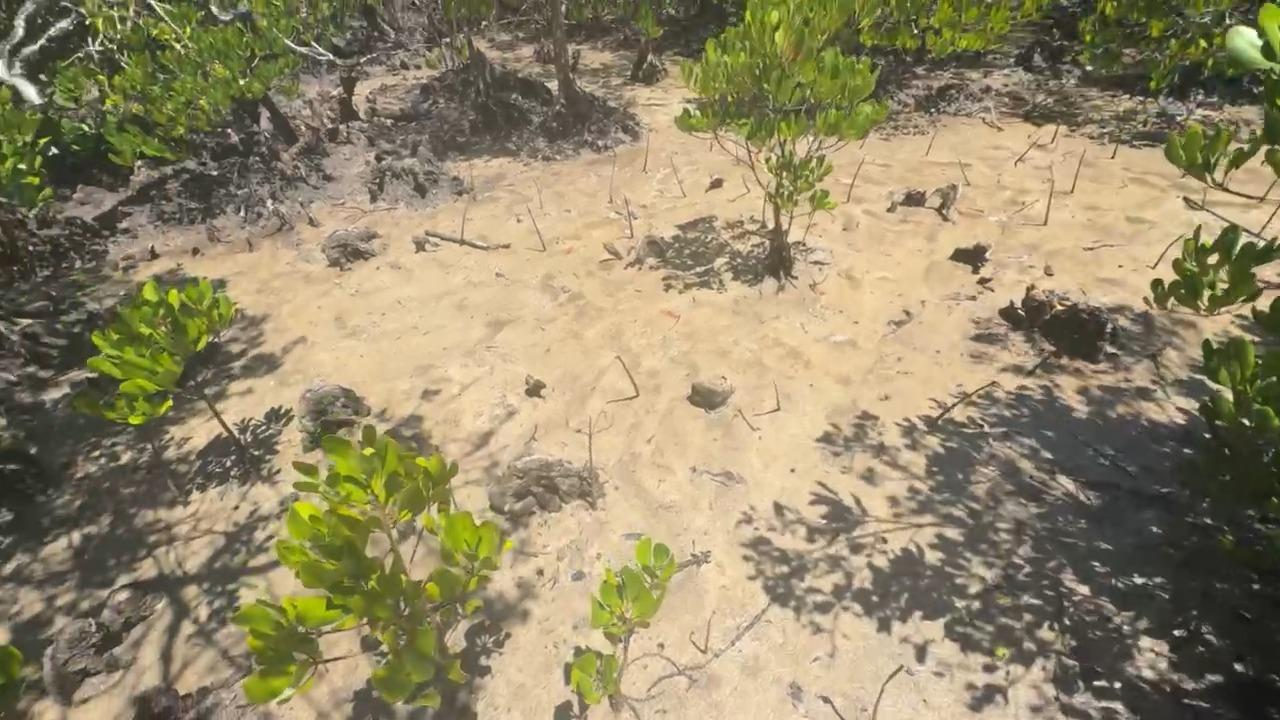Tree: (570, 535, 676, 720), (928, 381, 996, 427), (614, 354, 640, 397), (1152, 234, 1184, 268), (526, 204, 547, 252), (588, 416, 598, 509), (1027, 348, 1059, 374), (847, 157, 864, 204), (1015, 137, 1042, 164), (1070, 149, 1085, 194), (670, 158, 687, 197), (881, 665, 907, 688), (621, 193, 633, 238), (1044, 180, 1055, 226), (956, 156, 971, 186), (531, 177, 544, 209), (609, 152, 617, 203), (704, 614, 714, 654), (761, 182, 770, 226), (924, 128, 938, 156), (460, 204, 468, 245), (1112, 130, 1122, 161), (469, 162, 476, 201), (1051, 119, 1061, 146), (773, 381, 782, 410), (642, 135, 649, 172), (741, 174, 751, 192)
